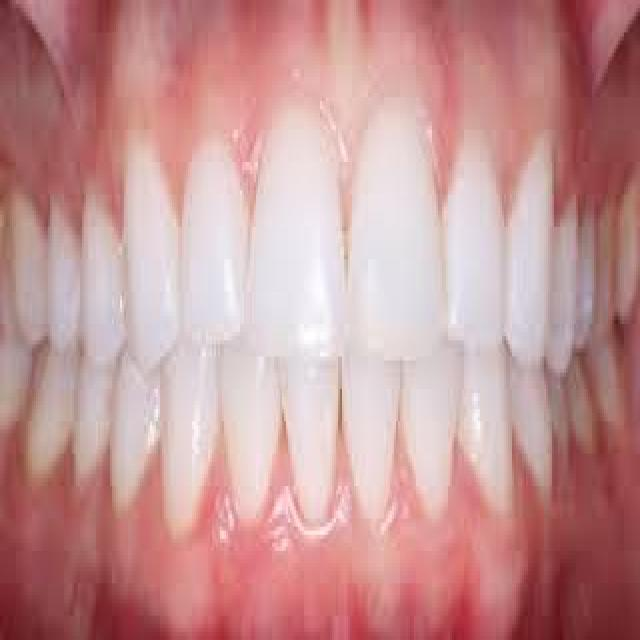tooth: (358, 138, 442, 348), (266, 89, 332, 324), (218, 352, 276, 502), (170, 344, 216, 514), (284, 373, 332, 482), (86, 218, 120, 360), (124, 198, 166, 312), (452, 142, 482, 279), (190, 182, 230, 284), (4, 194, 42, 300), (516, 174, 548, 284), (468, 364, 500, 474), (72, 360, 112, 446), (118, 373, 144, 478), (412, 360, 442, 450), (366, 373, 388, 486), (36, 352, 60, 454), (516, 356, 546, 434), (52, 215, 76, 312), (4, 332, 24, 434), (578, 231, 598, 316), (598, 218, 616, 300), (554, 247, 566, 328)
